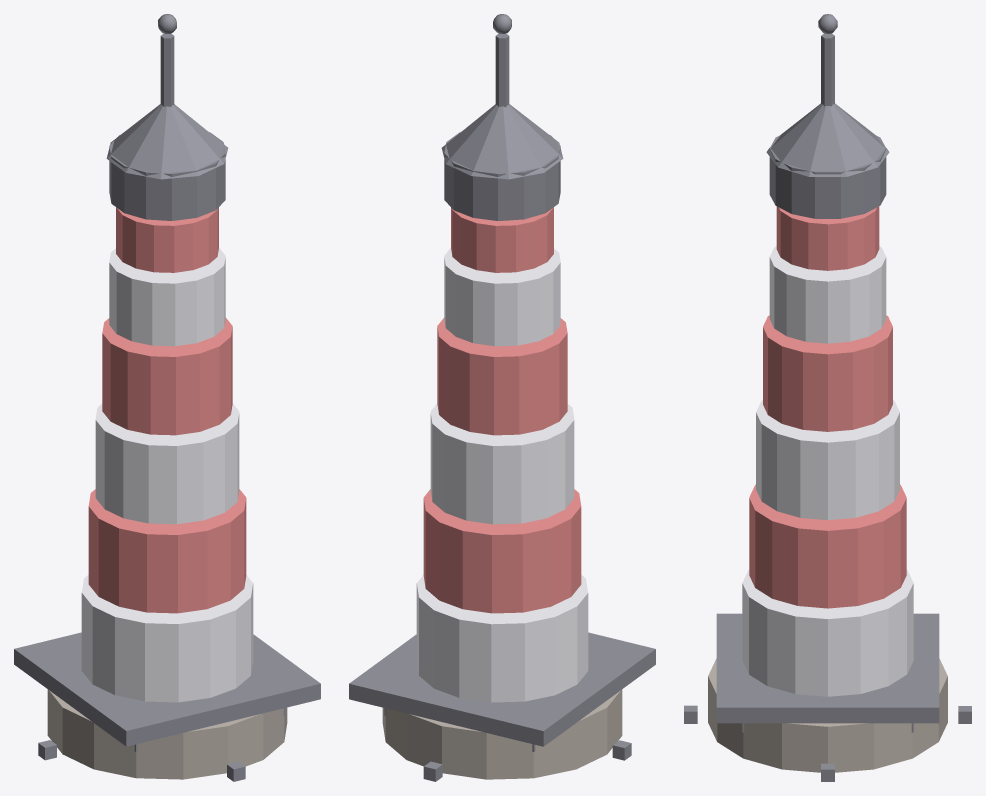
File: lighthouse.glb
3 views of the same model, side by side, from view 1: azimuth 30°, elevation 25°; view 2: azimuth 150°, elevation 25°; view 3: azimuth 270°, elevation 25° (orthographic).
Visible parts, largest first — view 1: seg1_white, seg2_red, seg3_white, base_block, seg4_red, base, seg5_white, roof, lamp_room, seg6_red_top, spire; view 2: seg1_white, seg2_red, seg3_white, base_block, seg4_red, base, seg5_white, roof, lamp_room, seg6_red_top, spire; view 3: seg1_white, seg2_red, seg3_white, base_block, seg4_red, base, seg5_white, roof, lamp_room, seg6_red_top, spire.
Part boxes in pixels (x1,y1,x2,y2): seg1_white: (81,575,253,702); seg2_red: (88,489,246,613); seg3_white: (95,403,239,524); base_block: (14,632,320,746); seg4_red: (102,317,232,435); base: (47,689,287,779); seg5_white: (109,248,225,346); roof: (106,104,228,179); lamp_room: (109,132,225,220); seg6_red_top: (116,207,218,272); spire: (160,33,174,107); seg1_white: (416,575,588,702); seg2_red: (423,489,581,613); seg3_white: (430,403,574,524); base_block: (349,632,655,746); seg4_red: (437,317,567,435); base: (382,689,622,779); seg5_white: (444,248,560,346); roof: (441,104,563,179); lamp_room: (444,132,560,220); seg6_red_top: (451,207,553,272); spire: (495,33,509,107); seg1_white: (742,569,913,696); seg2_red: (749,484,906,608); seg3_white: (756,400,899,520); base_block: (716,613,939,723); seg4_red: (763,315,892,431); base: (708,658,947,772); seg5_white: (769,246,886,343); roof: (766,103,889,176); lamp_room: (769,135,886,218); seg6_red_top: (776,206,879,270); spire: (821,33,834,106).
Bounding box in the file's own units: 1.68 × 4.56 × 1.68.
